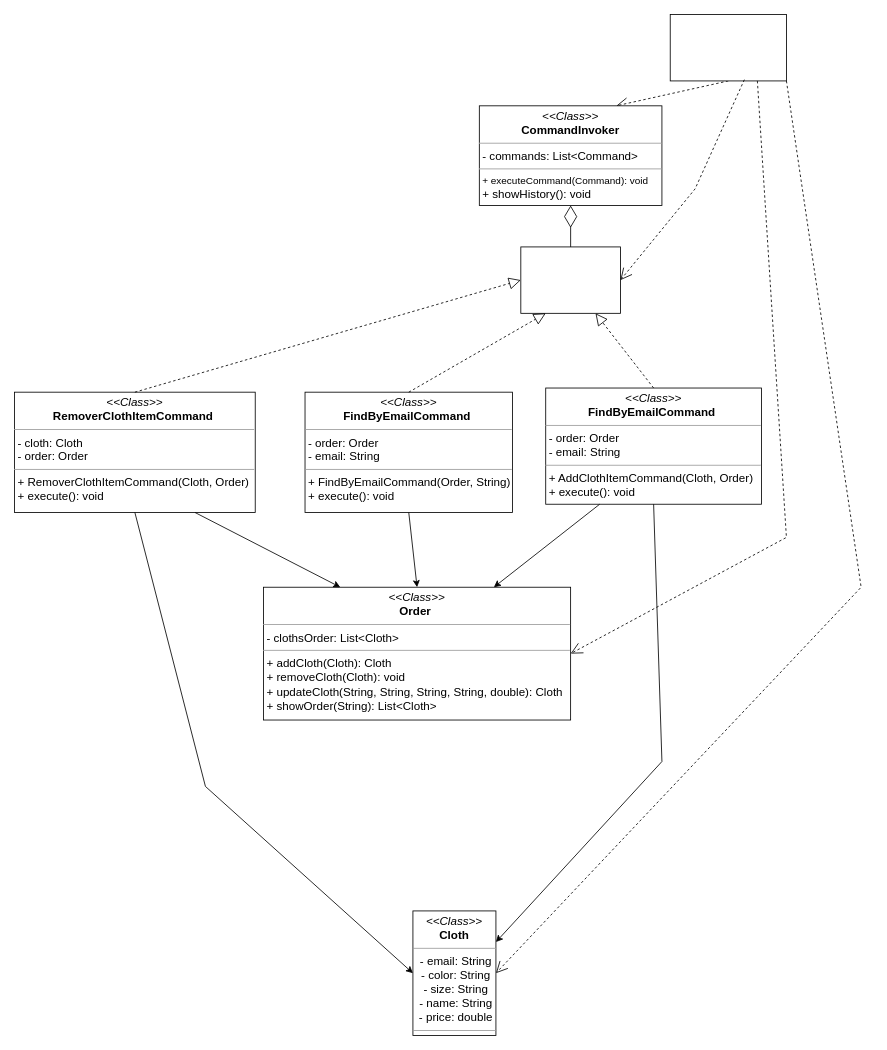
Image size: 887x1050. Some labels were removed from this diagram. The centre of each missing label's shape, as x and y in pixels:
"<<Class>> Main + main(String[]): void" goes at (x=727, y=47).
"<<Interface>> Command + execute(): void" goes at (x=570, y=279).
